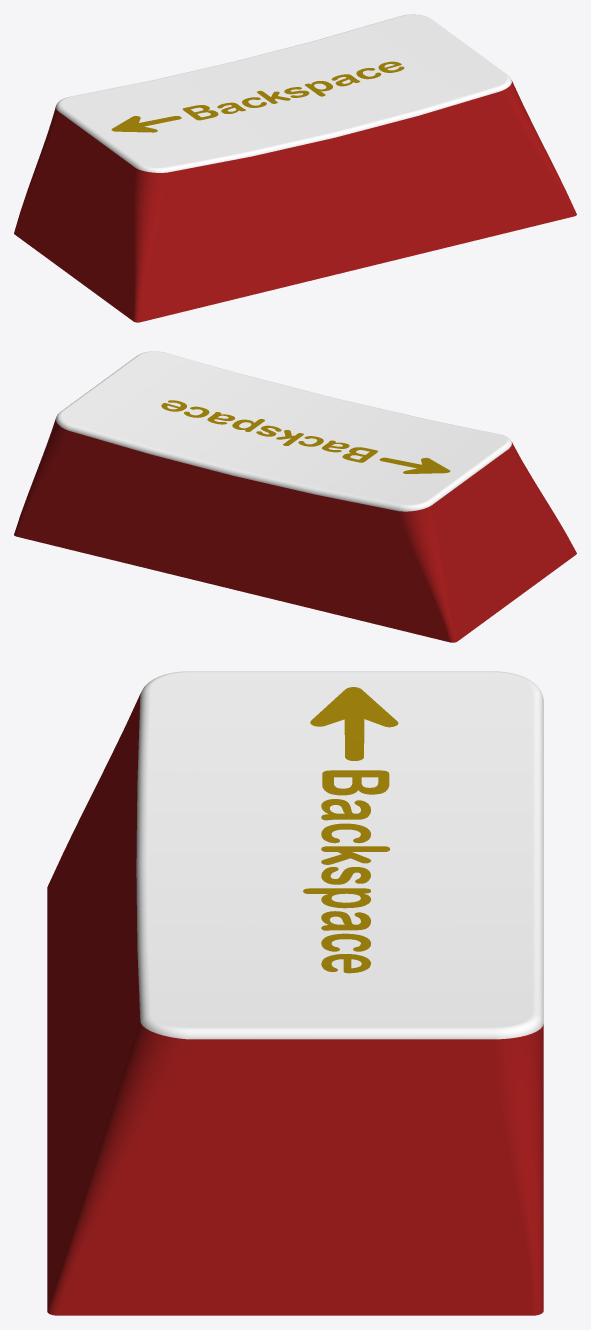
File: Backspace Text + Icon 200.fbx
The picture shows the model from 3 angles, top to bottom: view 1: azimuth 30°, elevation 25°; view 2: azimuth 150°, elevation 25°; view 3: azimuth 270°, elevation 25°; orthographic projection. The views are drawn at different scales.
Parts seen in each view (by area): view 1: Body1; view 2: Body1; view 3: Body1.
Boxes of the visible parts, left/top/right/bottom form: Body1: left=14, top=14, right=576, bottom=322; Body1: left=14, top=351, right=576, bottom=642; Body1: left=47, top=671, right=543, bottom=1315.
Bounding box in the file's own units: 37.08 × 9.98 × 18.
